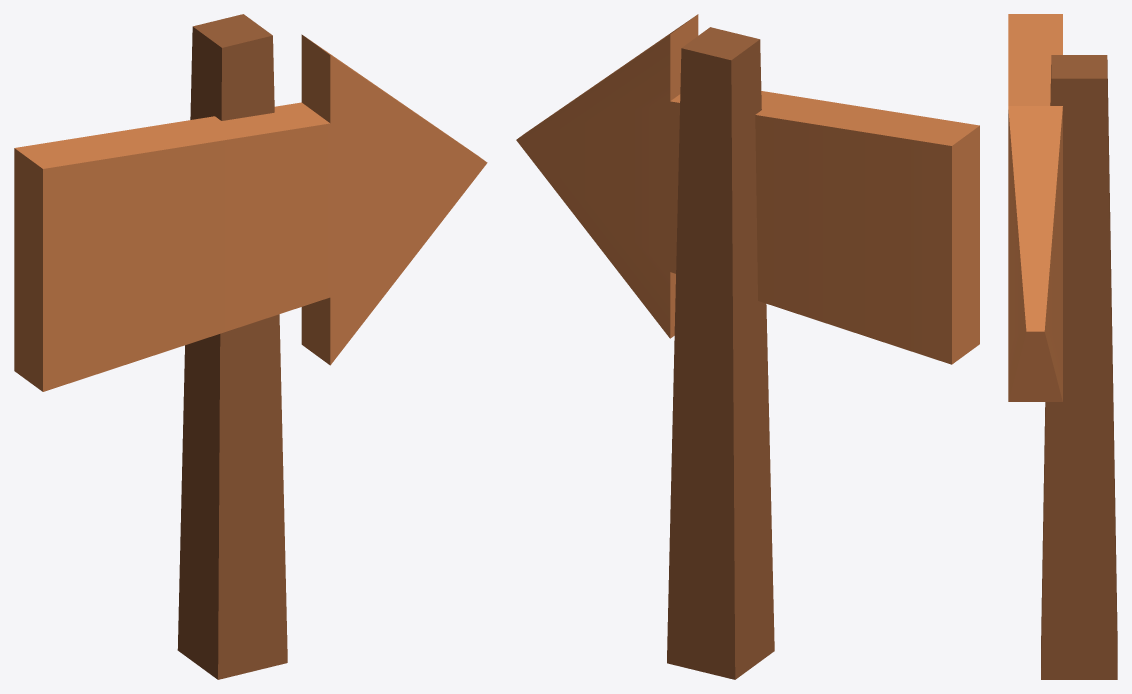
Rendered from arrow.obj.
3 views of the same model, side by side, from view 1: azimuth 30°, elevation 25°; view 2: azimuth 150°, elevation 25°; view 3: azimuth 270°, elevation 25° (orthographic). The views are drawn at different scales.
Visible parts, largest first — view 1: arrow; view 2: arrow; view 3: arrow.
Part boxes in pixels (x1,y1,x2,y2): arrow: (14,14,487,679); arrow: (516,14,979,679); arrow: (1008,14,1117,679).
Size of the model in its own units: 0.4557 by 0.6 by 0.0998.
